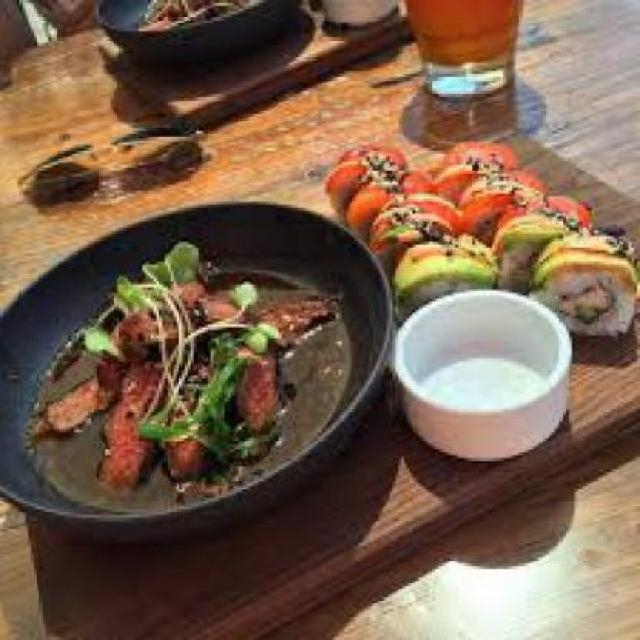steak: (37, 239, 321, 486)
sushi: (339, 122, 623, 347)
